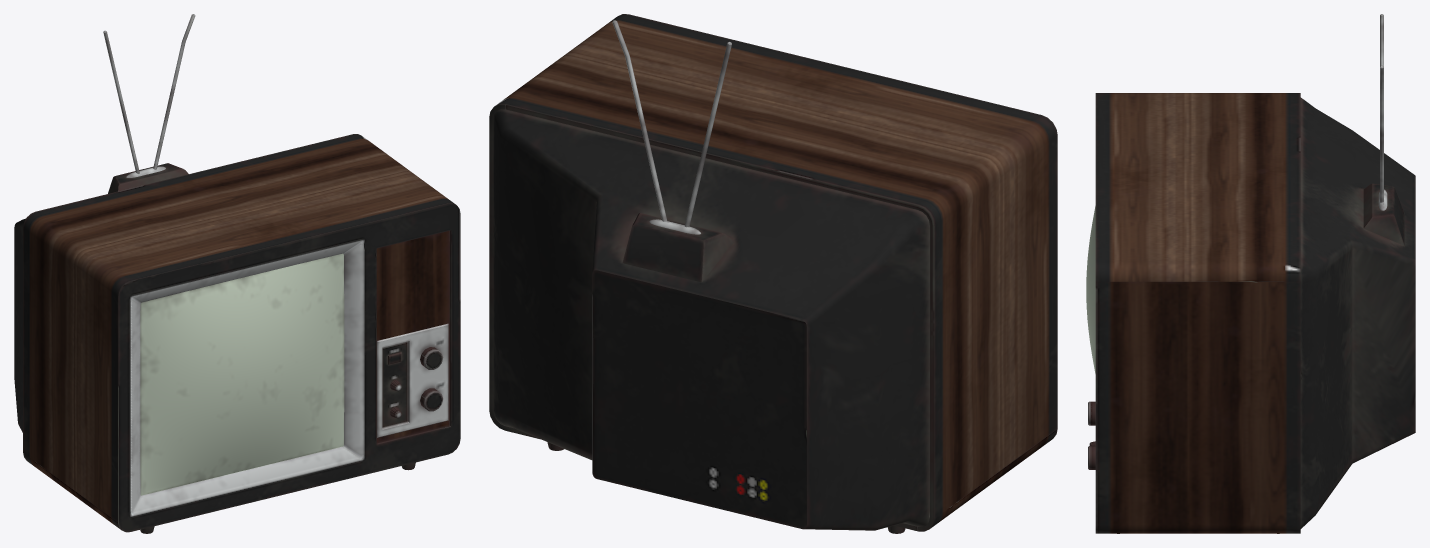
3 views of the same model, side by side, from view 1: azimuth 30°, elevation 25°; view 2: azimuth 150°, elevation 25°; view 3: azimuth 270°, elevation 25° (orthographic). The views are drawn at different scales.
Visible parts, largest first — view 1: VintageTV; view 2: VintageTV; view 3: VintageTV.
Part boxes in pixels (x1,y1,x2,y2): VintageTV: [14, 14, 460, 533]; VintageTV: [489, 14, 1057, 533]; VintageTV: [1086, 14, 1415, 533].
Bounding box in the file's own units: 160 × 175 × 124.
